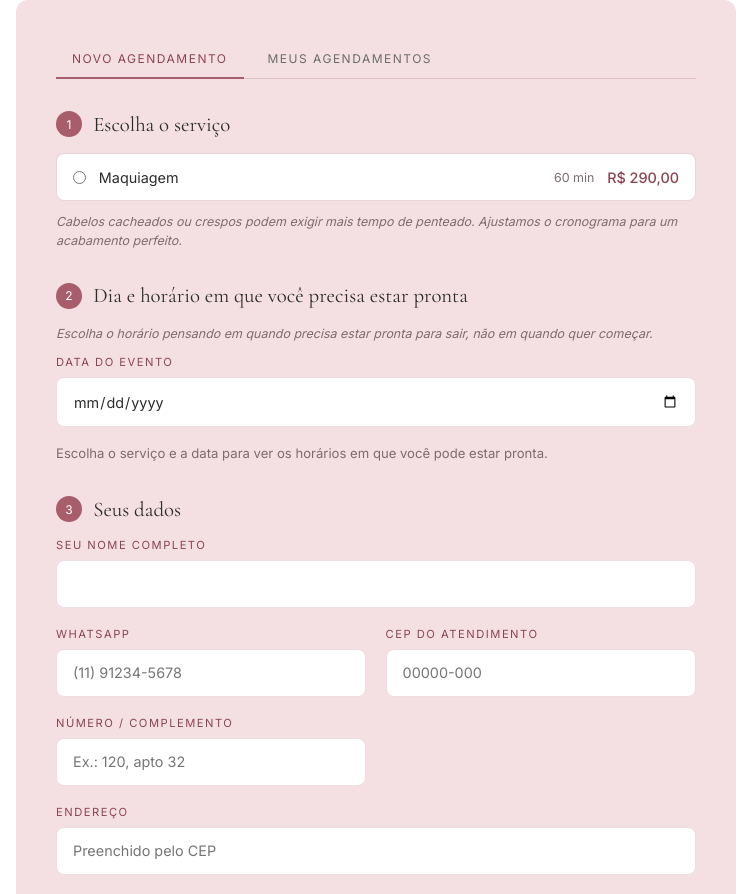
Test: AgendamentoWidget › valida o telefone antes de buscar
The width and height of the screenshot is (753, 894).
Click the button "Meus agendamentos" at [350, 60], box [252,40,448,79]
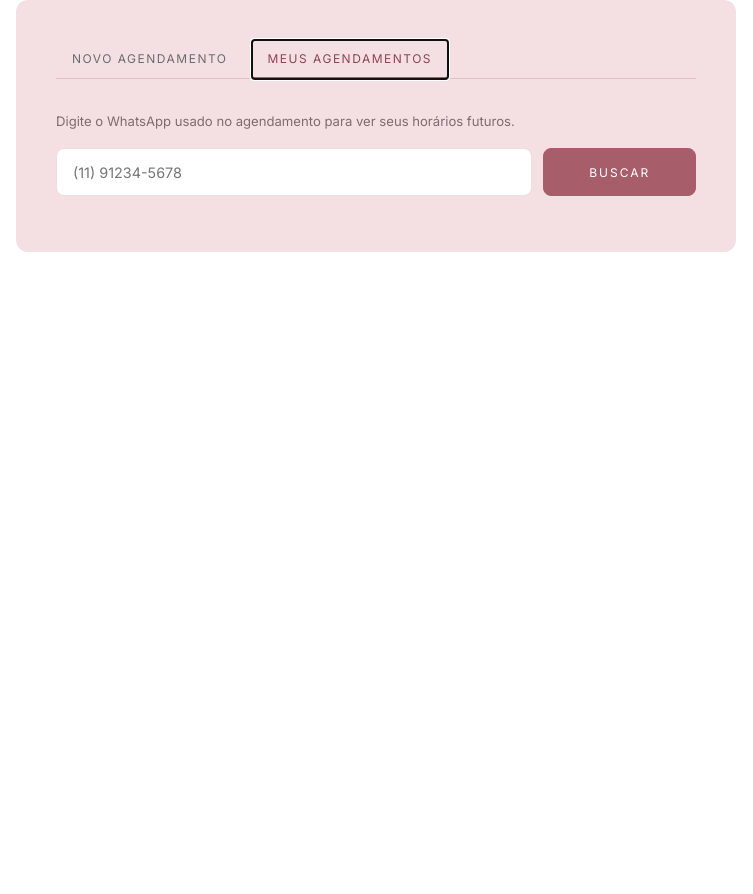
Click the button "Buscar" at [620, 172], box [543,148,696,196]
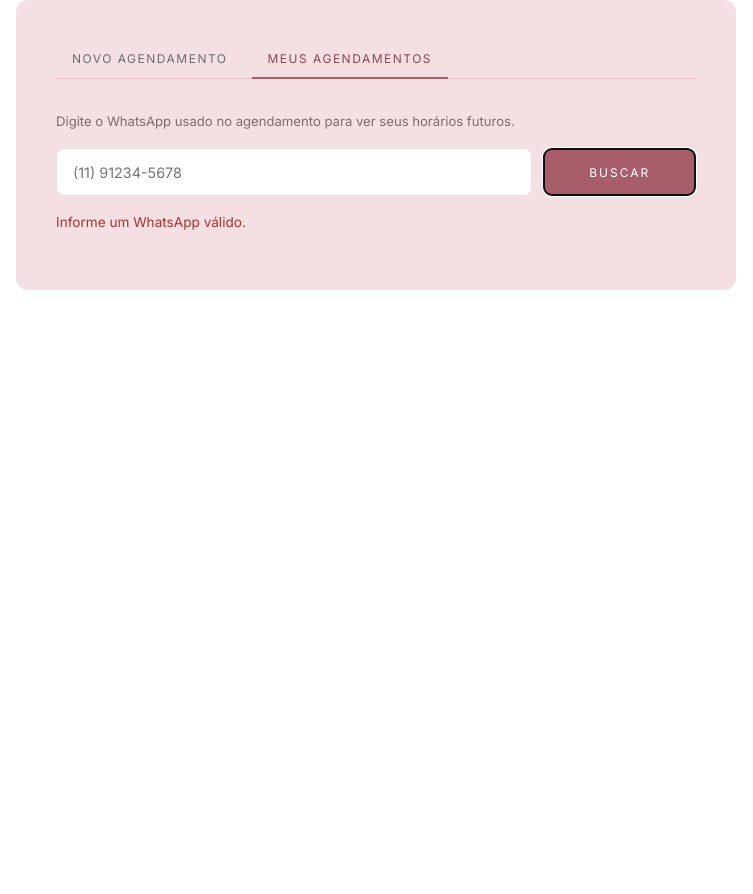
Result: the text "Informe um WhatsApp válido." is shown at [56,214,246,230]
